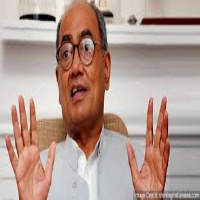ring: (9, 104, 24, 155), (158, 109, 169, 157)
